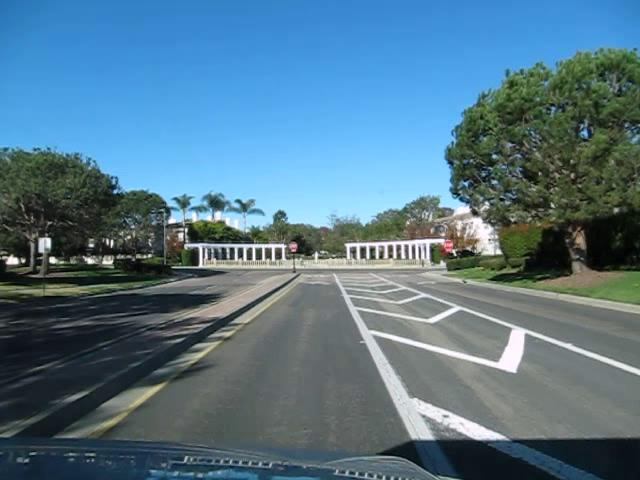stop: (443, 239, 453, 250)
